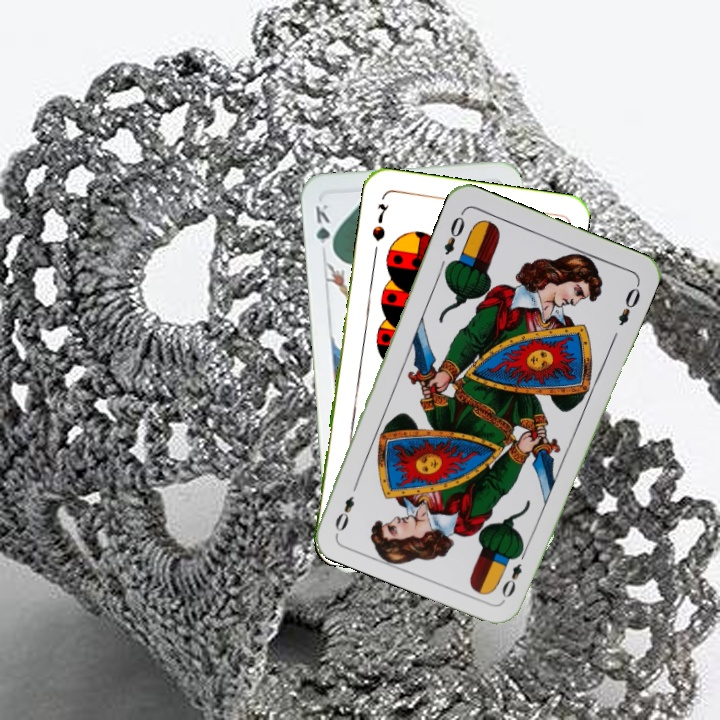EO: (497, 545, 530, 601), (440, 207, 468, 258)
GK: (311, 200, 336, 257)
S7: (368, 199, 392, 244)
